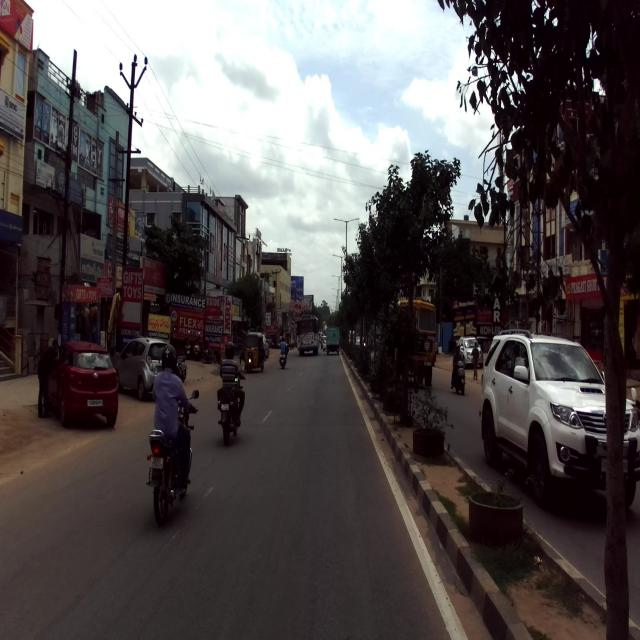Car_Chevrolet: (111, 334, 171, 402)
Car_Hyundai: (44, 339, 118, 428)
Car_Toyota: (479, 328, 639, 512)
motorcycle_Hero: (146, 386, 201, 528), (217, 364, 246, 443)
